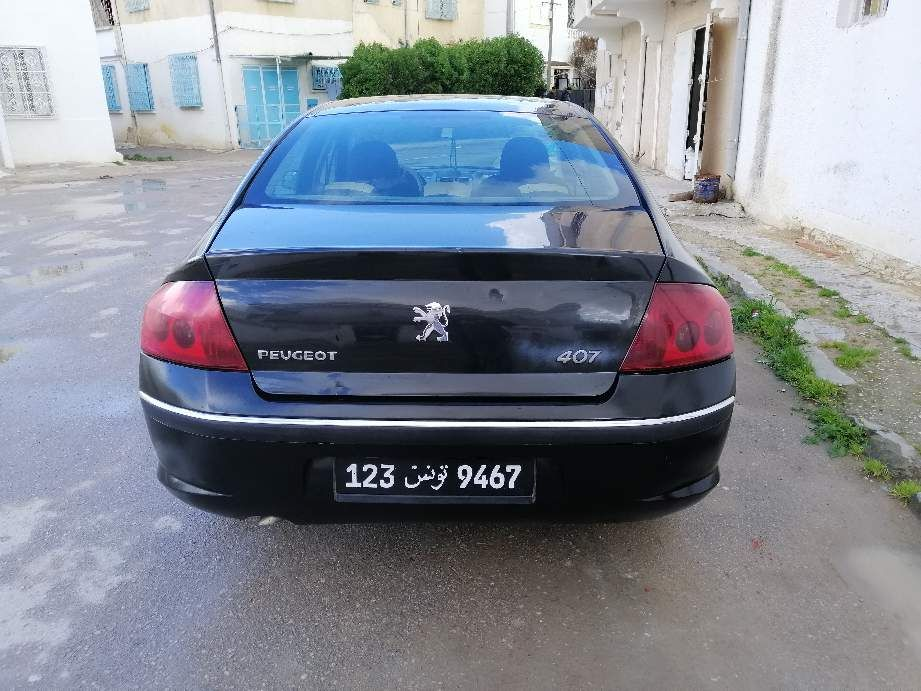LP: (333, 452, 533, 497)
